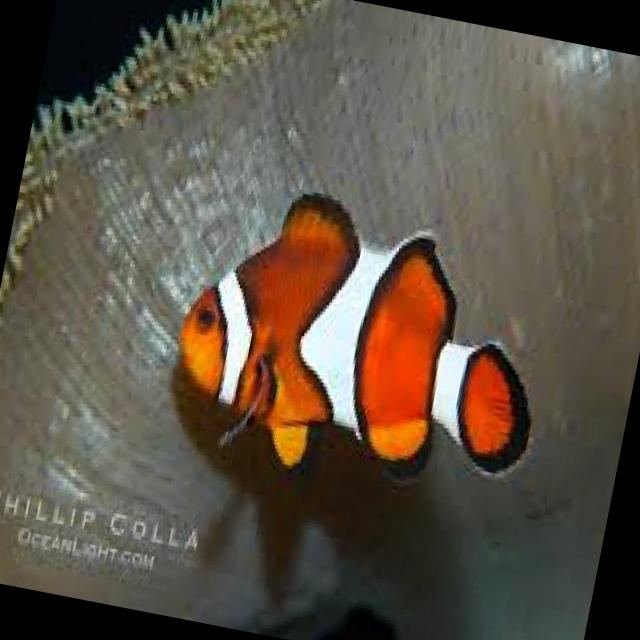ClownFish: (157, 168, 572, 510)
